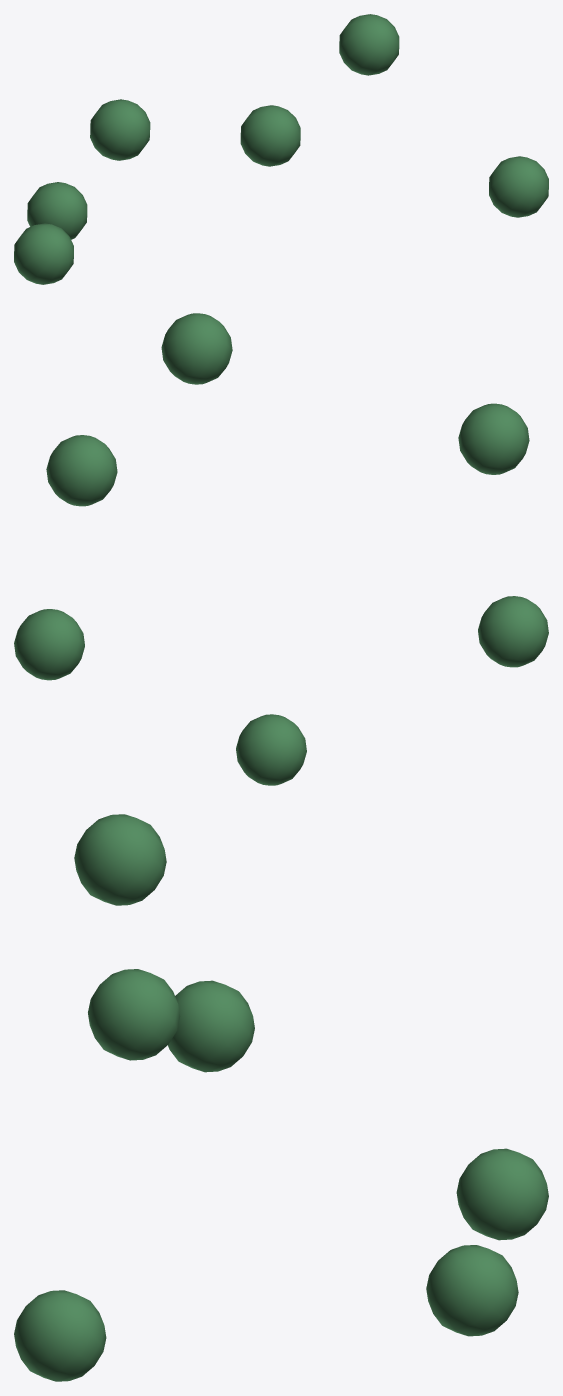
3 views of the same model, one above another, from view 1: azimuth 30°, elevation 25°; view 2: azimuth 150°, elevation 25°; view 3: azimuth 270°, elevation 25° (orthographic). The views are drawn at different scales.
Visible parts, largest first — view 1: 直肠旁淋巴结; view 2: 直肠旁淋巴结; view 3: 直肠旁淋巴结.
Boxes of the visible parts, bbox=[...] form: 直肠旁淋巴结: bbox=[14, 14, 548, 284]; 直肠旁淋巴结: bbox=[14, 313, 548, 785]; 直肠旁淋巴结: bbox=[14, 814, 548, 1381].
Size of the model in its own units: 0.0339 by 0.0183 by 0.0221.
